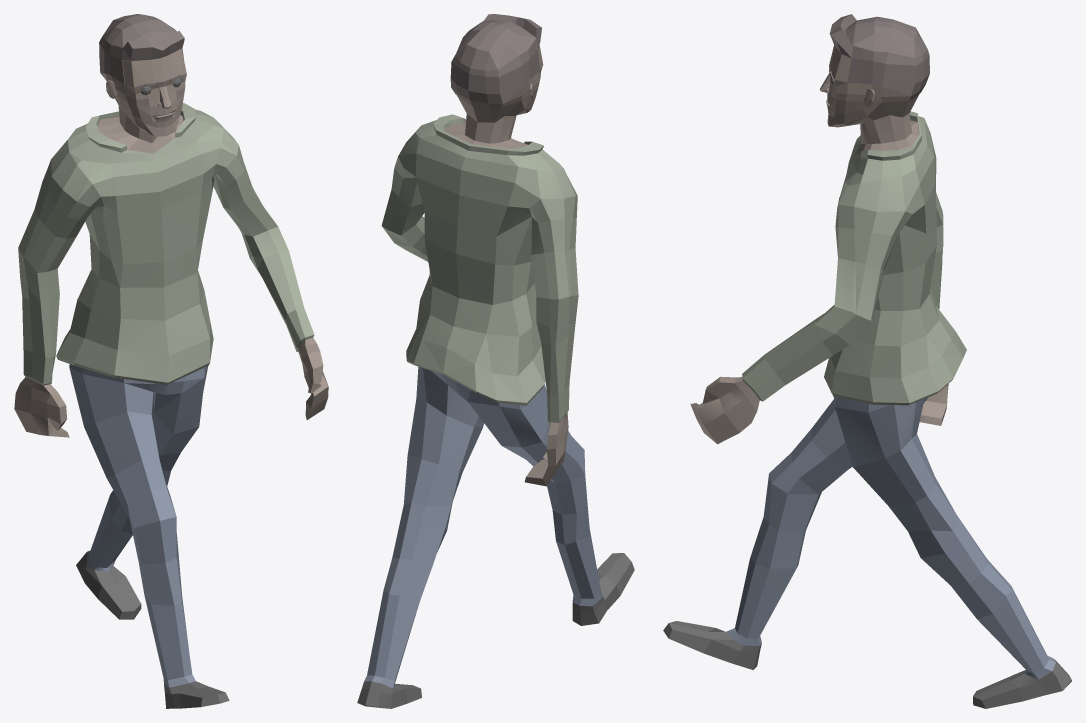
The model's file is walk_8.glb.
3 renders of one model, left to right at view 1: azimuth 30°, elevation 25°; view 2: azimuth 150°, elevation 25°; view 3: azimuth 270°, elevation 25°, orthographic. The views are drawn at different scales.
Parts seen in each view (by area): view 1: BaseHuman_baked; view 2: BaseHuman_baked; view 3: BaseHuman_baked.
Boxes of the visible parts, x1,y1,x2,y2 form: BaseHuman_baked: [14, 14, 328, 708]; BaseHuman_baked: [357, 14, 634, 708]; BaseHuman_baked: [663, 14, 1071, 708].
Bounding box in the file's own units: 1.62 × 4.62 × 2.58.
